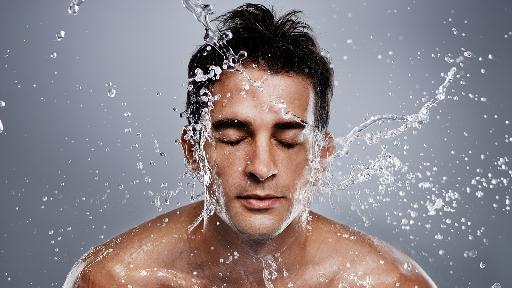left_eye: (273, 136, 303, 151)
left_lip_corner: (278, 193, 289, 202)
right_eye: (214, 134, 250, 147)
right_lip_corner: (234, 192, 244, 202)
